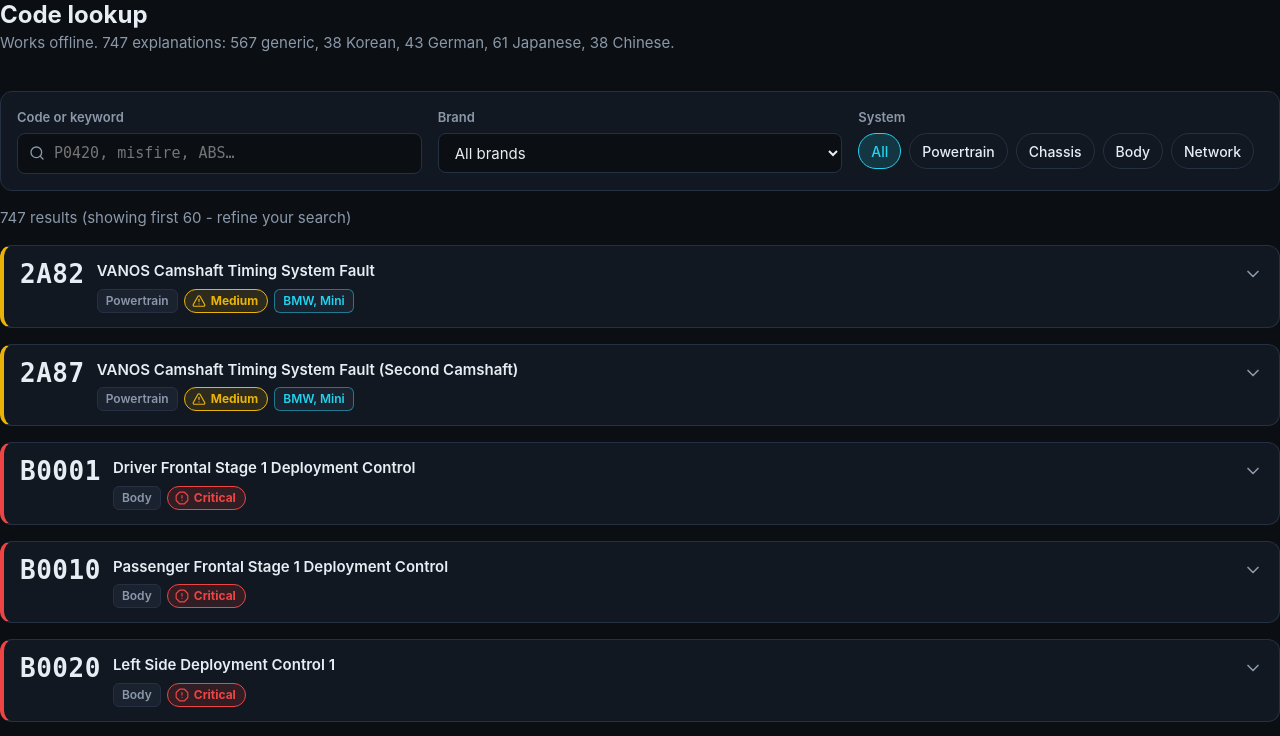
Test case: LookupPage › finds a code offline and builds a fallback for unknown ones
Type "P0301" into the field labelled "Code or keyword" at (219, 153), box [17,133,422,174]
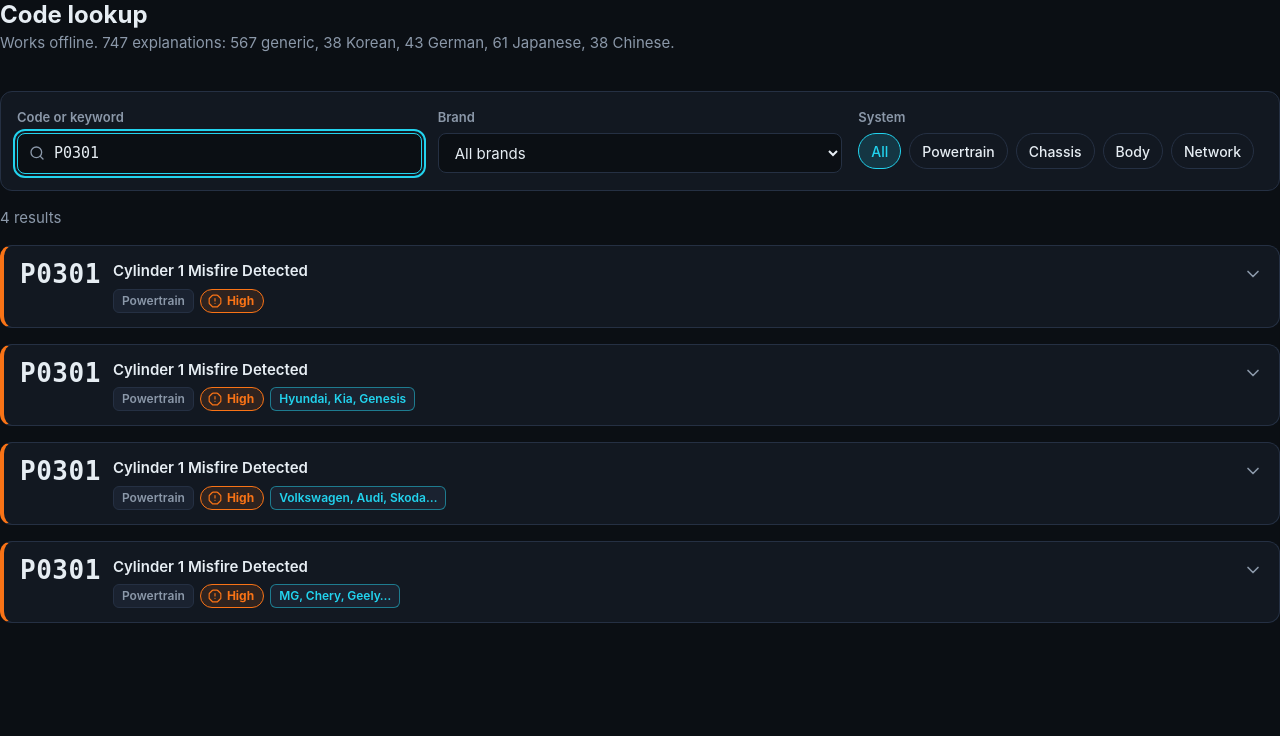
Check: the 1st text "Cylinder 1 Misfire Detected" is shown, box [113,261,308,280]
Replace the text in the field labelled "Code or keyword" with "P0999" at (219, 153), box [17,133,422,174]
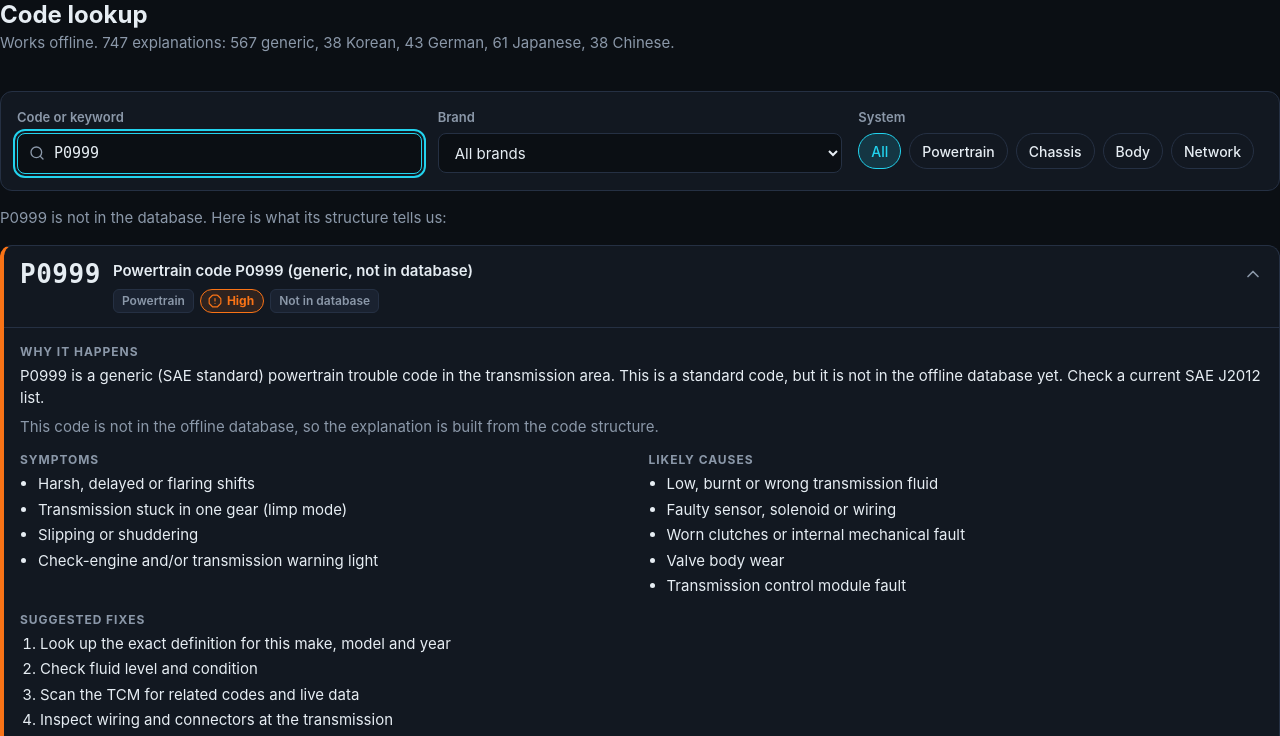
Check: the text "not in the database" is shown, box [47,208,447,226]
